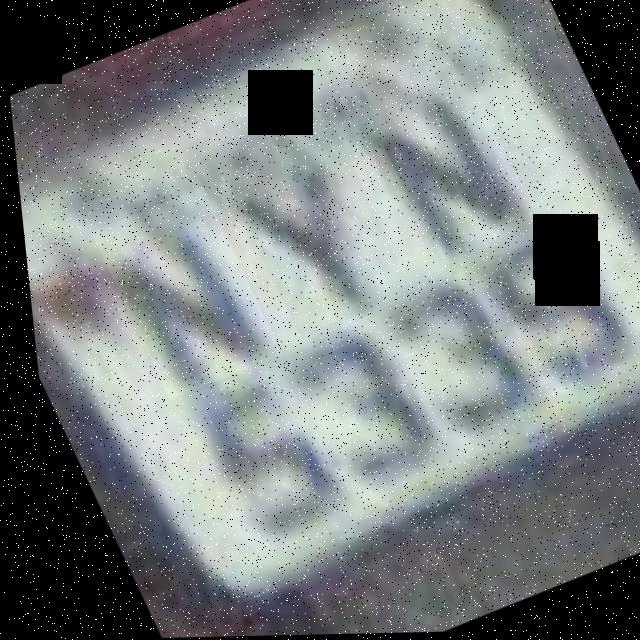3: (225, 290, 466, 528), (332, 257, 557, 487)
5: (137, 348, 344, 562)
9: (448, 223, 640, 438)
N: (333, 69, 546, 294), (83, 187, 278, 402)
Y: (209, 113, 410, 341)
